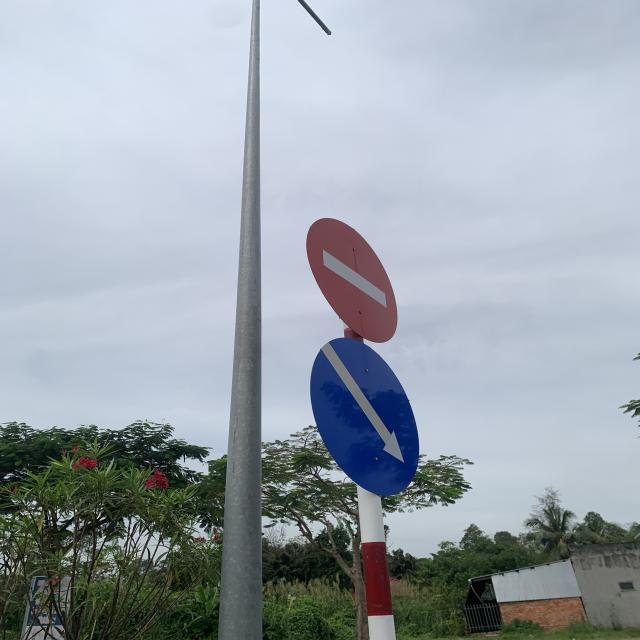Cam_Di_Nguoc_Chieu: (306, 215, 401, 343)
Chi_Huong_Di_Phai: (310, 338, 423, 500)
